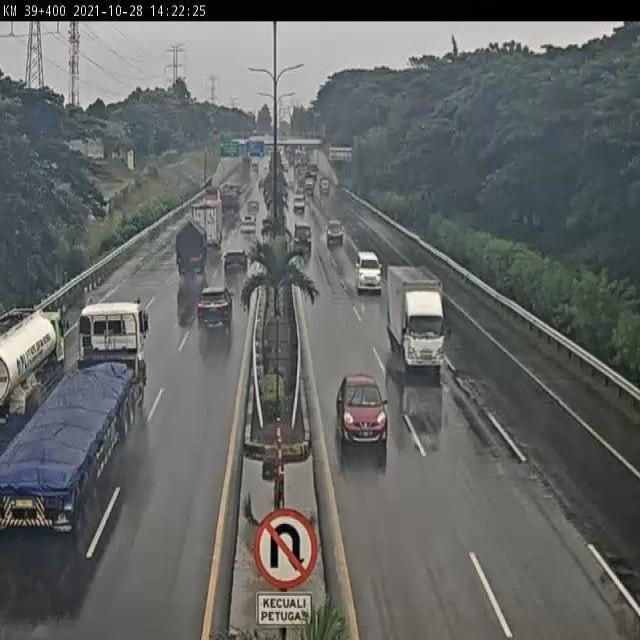car: (333, 375, 390, 448), (196, 285, 233, 327), (353, 250, 383, 294), (223, 248, 250, 277), (292, 220, 314, 252), (237, 213, 259, 240), (324, 219, 346, 245)
truck-l-: (187, 203, 224, 248)
truck-m-: (0, 300, 72, 417), (174, 216, 210, 276)
truck-s-: (385, 263, 448, 373)
truck-xl-: (0, 300, 149, 539)
